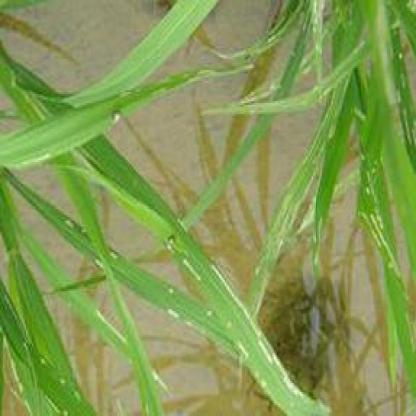rice-bug: (164, 229, 180, 250), (108, 106, 124, 126)
